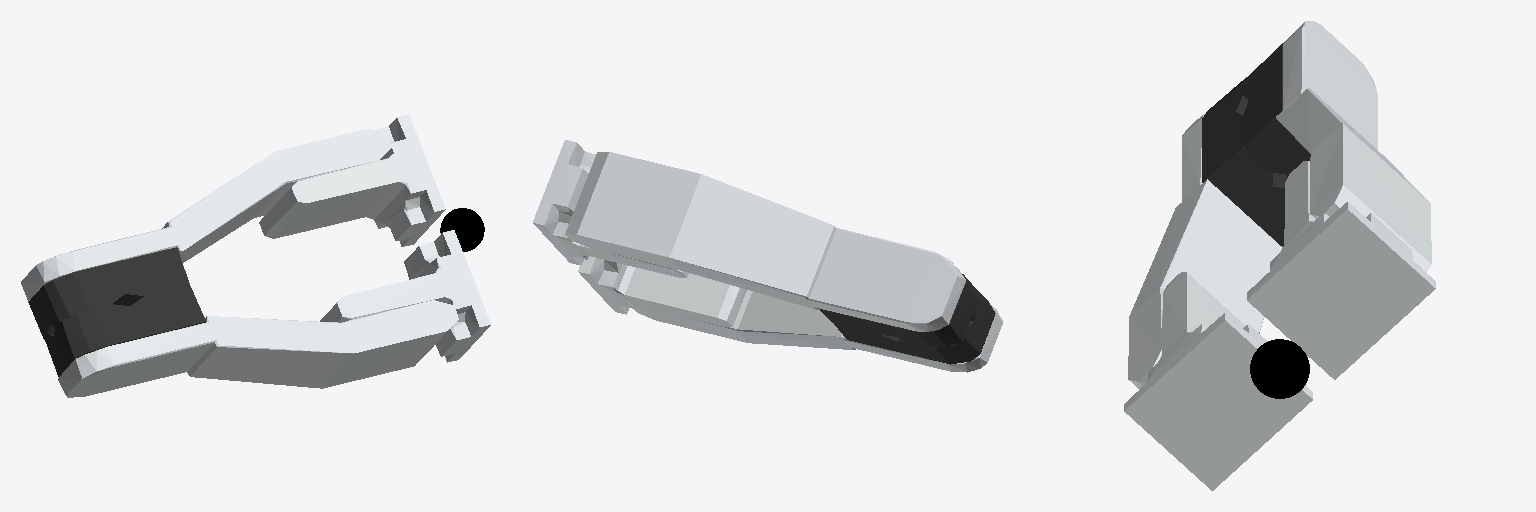
URDF robot description (panda):
<?xml version="1.0" ?>
<robot name="panda" xmlns:xacro="http://www.ros.org/wiki/xacro">
  <material name="Vis"><color rgba="0.0 0.0 0.0 0.0"/></material>
  <link name="panda_link0">
    <visual>
      <geometry>
        <mesh filename="package://franka_description/meshes/visual/link0.dae"/>
      </geometry>
    </visual>
    <collision>
      <geometry>
        <mesh filename="package://franka_description/meshes/collision/link0.obj"/>
      </geometry>
    </collision>
  </link>
  <link name="panda_link1">
    <visual>
      <geometry>
        <mesh filename="package://franka_description/meshes/visual/link1.dae"/>
      </geometry>
    </visual>
    <collision>
      <geometry>
        <mesh filename="package://franka_description/meshes/collision/link1.obj"/>
      </geometry>
    </collision>
  </link>
  <joint name="panda_joint1" type="revolute">
    <safety_controller k_position="100.0" k_velocity="40.0" soft_lower_limit="-2.8973" soft_upper_limit="2.8973"/>
    <origin rpy="0 0 0" xyz="0 0 0.333"/>
    <parent link="panda_link0"/>
    <child link="panda_link1"/>
    <axis xyz="0 0 1"/>
    <dynamics damping="10.0"/>
    <limit effort="117" lower="-2.8973" upper="2.8973" velocity="2.1750"/>
  </joint>
  <link name="panda_link2">
    <visual>
      <geometry>
        <mesh filename="package://franka_description/meshes/visual/link2.dae"/>
      </geometry>
    </visual>
    <collision>
      <geometry>
        <mesh filename="package://franka_description/meshes/collision/link2.obj"/>
      </geometry>
    </collision>
  </link>
  <joint name="panda_joint2" type="revolute">
    <safety_controller k_position="100.0" k_velocity="40.0" soft_lower_limit="-1.7628" soft_upper_limit="1.7628"/>
    <origin rpy="-1.57079632679 0 0" xyz="0 0 0"/>
    <parent link="panda_link1"/>
    <child link="panda_link2"/>
    <axis xyz="0 0 1"/>
    <dynamics damping="10.0"/>
    <limit effort="117" lower="-1.7628" upper="1.7628" velocity="2.1750"/>
  </joint>
  <link name="panda_link3">
    <visual>
      <geometry>
        <mesh filename="package://franka_description/meshes/visual/link3.dae"/>
      </geometry>
    </visual>
    <collision>
      <geometry>
        <mesh filename="package://franka_description/meshes/collision/link3.obj"/>
      </geometry>
    </collision>
  </link>
  <joint name="panda_joint3" type="revolute">
    <safety_controller k_position="100.0" k_velocity="40.0" soft_lower_limit="-2.8973" soft_upper_limit="2.8973"/>
    <origin rpy="1.57079632679 0 0" xyz="0 -0.316 0"/>
    <parent link="panda_link2"/>
    <child link="panda_link3"/>
    <axis xyz="0 0 1"/>
    <dynamics damping="10.0"/>
    <limit effort="117" lower="-2.8973" upper="2.8973" velocity="2.1750"/>
  </joint>
  <link name="panda_link4">
    <visual>
      <geometry>
        <mesh filename="package://franka_description/meshes/visual/link4.dae"/>
      </geometry>
    </visual>
    <collision>
      <geometry>
        <mesh filename="package://franka_description/meshes/collision/link4.obj"/>
      </geometry>
    </collision>
  </link>
  <joint name="panda_joint4" type="revolute">
    <safety_controller k_position="100.0" k_velocity="40.0" soft_lower_limit="-3.0718" soft_upper_limit="-0.0698"/>
    <origin rpy="1.57079632679 0 0" xyz="0.0825 0 0"/>
    <parent link="panda_link3"/>
    <child link="panda_link4"/>
    <axis xyz="0 0 1"/>
    <dynamics damping="10.0"/>
    <limit effort="117" lower="-3.0718" upper="-0.0698" velocity="2.1750"/>
    <!-- something is weird with this joint limit config
    <dynamics damping="10.0"/>
    <limit effort="87" lower="-3.0" upper="0.087" velocity="2.1750"/>  -->
  </joint>
  <link name="panda_link5">
    <visual>
      <geometry>
        <mesh filename="package://franka_description/meshes/visual/link5.dae"/>
      </geometry>
    </visual>
    <collision>
      <geometry>
        <mesh filename="package://franka_description/meshes/collision/link5.obj"/>
      </geometry>
    </collision>
  </link>
  <joint name="panda_joint5" type="revolute">
    <safety_controller k_position="100.0" k_velocity="40.0" soft_lower_limit="-2.8973" soft_upper_limit="2.8973"/>
    <origin rpy="-1.57079632679 0 0" xyz="-0.0825 0.384 0"/>
    <parent link="panda_link4"/>
    <child link="panda_link5"/>
    <axis xyz="0 0 1"/>
    <dynamics damping="10.0"/>
    <limit effort="82" lower="-2.8973" upper="2.8973" velocity="2.6100"/>
  </joint>
  <link name="panda_link6">
    <visual>
      <geometry>
        <mesh filename="package://franka_description/meshes/visual/link6.dae"/>
      </geometry>
    </visual>
    <collision>
      <geometry>
        <mesh filename="package://franka_description/meshes/collision/link6.obj"/>
      </geometry>
    </collision>
  </link>
  <joint name="panda_joint6" type="revolute">
    <safety_controller k_position="100.0" k_velocity="40.0" soft_lower_limit="-0.0175" soft_upper_limit="3.7525"/>
    <origin rpy="1.57079632679 0 0" xyz="0 0 0"/>
    <parent link="panda_link5"/>
    <child link="panda_link6"/>
    <axis xyz="0 0 1"/>
    <dynamics damping="10.0"/>
    <limit effort="42" lower="-0.0175" upper="3.7525" velocity="2.6100"/>
    <!-- <dynamics damping="10.0"/>
    <limit effort="12" lower="-0.0873" upper="3.0" velocity="2.6100"/> -->
  </joint>
  <link name="panda_link7">
    <visual>
      <geometry>
        <mesh filename="package://franka_description/meshes/visual/link7.dae"/>
      </geometry>
    </visual>
    <collision>
      <geometry>
        <mesh filename="package://franka_description/meshes/collision/link7.obj"/>
      </geometry>
    </collision>
  </link>
  <joint name="panda_joint7" type="revolute">
    <safety_controller k_position="100.0" k_velocity="40.0" soft_lower_limit="-2.8973" soft_upper_limit="2.8973"/>
    <origin rpy="1.57079632679 0 0" xyz="0.088 0 0"/>
    <parent link="panda_link6"/>
    <child link="panda_link7"/>
    <axis xyz="0 0 1"/>
    <dynamics damping="10.0"/>
    <limit effort="42" lower="-2.8973" upper="2.8973" velocity="2.6100"/>
  </joint>
  <!--
  <link name="panda_link8"/>
  <joint name="panda_joint8" type="fixed">
    <origin rpy="0 0 0" xyz="0 0 0.107"/>
    <parent link="panda_link7"/>
    <child link="panda_link8"/>
    <axis xyz="0 0 0"/>
  </joint>
  Removing this joint seems to help with some stability things
  -->
  <joint name="panda_hand_joint" type="fixed">
    <!--
    <parent link="panda_link8"/>
    -->
    <parent link="panda_link7"/>
    <child link="panda_hand"/>
    <origin rpy="0 0 -0.785398163397" xyz="0 0 0.107"/>
    <!--
    <origin rpy="0 0 -0.785398163397" xyz="0 0 0"/>
    -->
  </joint>
  <link name="panda_hand">
    <visual>
      <geometry>
        <mesh filename="package://franka_description/meshes/visual/hand.dae"/>
      </geometry>
    </visual>
    <collision>
      <geometry>
        <mesh filename="package://franka_description/meshes/collision/hand.obj"/>
      </geometry>
    </collision>
  </link>
  <joint name="panda_hand_y_axis_joint" type="fixed">
    <parent link="panda_hand"/>
    <child link="panda_hand_y_axis"/>
    <origin rpy="0 0 0" xyz="0 0.01 0"/>
  </joint>
  <link name="panda_hand_y_axis">
  </link>
  <joint name="panda_hand_z_axis_joint" type="fixed">
    <parent link="panda_hand"/>
    <child link="panda_hand_z_axis"/>
    <origin rpy="0 0 0" xyz="0 0 0.01"/>
  </joint>
  <link name="panda_hand_z_axis">
  </link>
  <link name="panda_leftfinger">
    <visual>
      <geometry>
        <mesh filename="package://franka_description/meshes/visual/extended_finger.dae"/>
      </geometry>
    </visual>
    <collision>
      <geometry>
        <mesh filename="package://franka_description/meshes/collision/extended_finger.obj"/>
      </geometry>
    </collision>
  </link>
  <link name="panda_rightfinger">
    <visual>
      <origin rpy="0 0 3.14159265359" xyz="0 0 0"/>
      <geometry>
        <mesh filename="package://franka_description/meshes/visual/extended_finger.dae"/>
      </geometry>
    </visual>
    <collision>
      <origin rpy="0 0 3.14159265359" xyz="0 0 0"/>
      <geometry>
        <mesh filename="package://franka_description/meshes/collision/extended_finger.obj"/>
      </geometry>
    </collision>
  </link>
  <joint name="panda_finger_joint1" type="prismatic">
    <parent link="panda_hand"/>
    <child link="panda_leftfinger"/>
    <origin rpy="0 0 0" xyz="0 0 0.0584"/>
    <axis xyz="0 1 0"/>
    <dynamics damping="10.0"/>
    <limit effort="40" lower="0.0" upper="0.04" velocity="2.0"/>
  </joint>
  <joint name="panda_finger_joint2" type="prismatic">
    <parent link="panda_hand"/>
    <child link="panda_rightfinger"/>
    <origin rpy="0 0 0" xyz="0 0 0.0584"/>
    <axis xyz="0 -1 0"/>
    <dynamics damping="10.0"/>
    <limit effort="40" lower="0.0" upper="0.04" velocity="2.0"/>
    <mimic joint="panda_finger_joint1"/>
  </joint>
  <joint name="panda_grip_vis_joint" type="fixed">
    <parent link="panda_hand"/>
    <child link="panda_grip_site"/>
    <origin rpy="1.57 0 1.57" xyz="0 0 0.05125"/> # 0.1025
  </joint>
  <link name="panda_grip_site">
    <visual>
      <geometry>
        <sphere radius="0.005"/>
      </geometry>
      <material name="Vis"/>
    </visual>
  </link>

  <joint name="panda_leftfinger_tip_joint" type="fixed">
    <parent link="panda_leftfinger"/>
    <child link="panda_leftfinger_tip"/>
    <origin rpy="0 0 0" xyz="0.0 0.0015 0.0441"/>
  </joint>
  <link name="panda_leftfinger_tip">
    <collision>
      <geometry>
        <box size="0.013 0.004 0.013"/>
      </geometry>
    </collision>
  </link>

  <joint name="panda_rightfinger_tip_joint" type="fixed">
    <parent link="panda_rightfinger"/>
    <child link="panda_rightfinger_tip"/>
    <origin rpy="0 0 0" xyz="0.0 -0.0015 0.0441"/>
  </joint>
  <link name="panda_rightfinger_tip">
    <collision>
      <geometry>
        <box size="0.013 0.004 0.013"/>
      </geometry>
    </collision>
  </link>

</robot>

--- What the picture shows (computed from the rendered views, not written in the file) ---
The picture shows the robot from 3 angles, left to right: view 1: azimuth 30°, elevation 25°; view 2: azimuth 150°, elevation 25°; view 3: azimuth 270°, elevation 25°; orthographic projection.
Model panda with 16 links and 15 joints (7 revolute, 2 prismatic, 6 fixed), rooted at panda_link0, posed all joints at 0 but 1 set to mid-range because 0 is outside their limits (panda_joint4 = -1.57).
Visible links, largest first — view 1: panda_leftfinger, panda_rightfinger, panda_grip_site; view 2: panda_rightfinger, panda_leftfinger; view 3: panda_rightfinger, panda_leftfinger, panda_grip_site.
Link boxes in pixels (box(x1,y1,x2,y2)): panda_leftfinger: box(44, 230, 490, 397); panda_rightfinger: box(21, 114, 445, 339); panda_grip_site: box(440, 208, 484, 251); panda_rightfinger: box(533, 140, 979, 346); panda_leftfinger: box(578, 256, 1002, 372); panda_rightfinger: box(1243, 21, 1435, 379); panda_leftfinger: box(1124, 77, 1312, 490); panda_grip_site: box(1250, 339, 1309, 398).
Bounding box of the posed robot: 0.1118 × 0.0519 × 0.0519 m (x, y, z).
2 mesh visuals loaded from 10 distinct referenced files (1 Collada DAE); not drawn: 9 (reference not matched to a file when rendering).